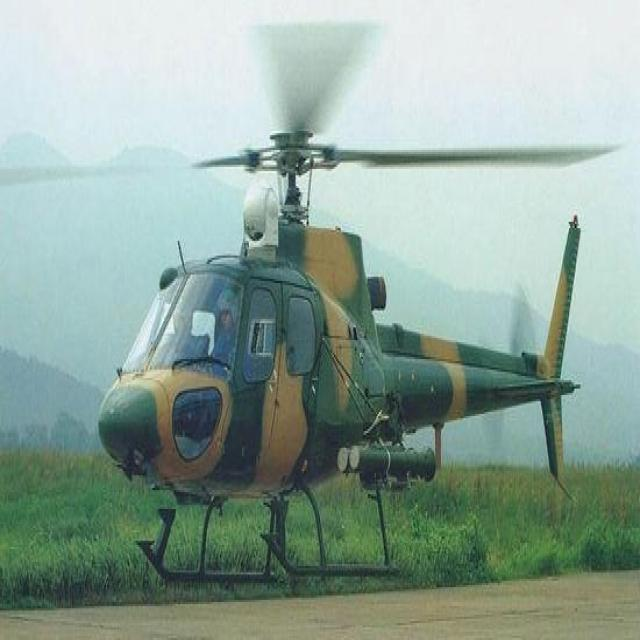MIL_HELO: (37, 5, 640, 627)
